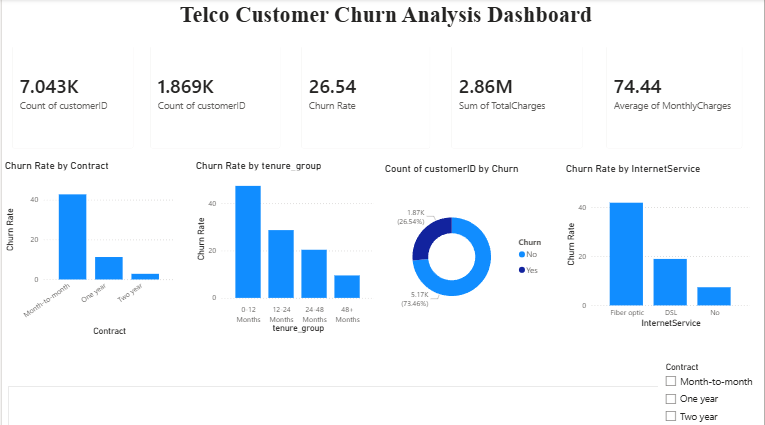

What the dashboard file says about the page in this screenshot:
{"tool":"powerbi","page":{"name":"Churn Dashboard","canvas":[1280,720],"ordinal":0},"visuals":[{"type":"cardVisual","fields":{"Data":["CountNonNull(telco_churn_cleaned.customerID)"]},"box":[0,40.3,238.5,228.5],"z":0},{"type":"cardVisual","fields":{"Data":["CountNonNull(telco_churn_cleaned.customerID)"]},"box":[231.8,40.3,253.6,228.5],"z":1},{"type":"cardVisual","fields":{"Data":["telco_churn_cleaned.Churn Rate"]},"box":[485.5,40.3,252,228.5],"z":2},{"type":"cardVisual","fields":{"Data":["Sum(telco_churn_cleaned.TotalCharges)"]},"box":[737.4,40.3,255.3,228.5],"z":3},{"type":"cardVisual","fields":{"Data":["Avg(telco_churn_cleaned.MonthlyCharges)"]},"box":[997.8,40.3,263.7,228.5],"z":4},{"type":"clusteredColumnChart","fields":{"Category":["telco_churn_cleaned.Contract"],"Y":["telco_churn_cleaned.Churn Rate"]},"box":[0,268.8,295.6,302.4],"z":5},{"type":"clusteredColumnChart","fields":{"Category":["telco_churn_cleaned.tenure_group"],"Y":["telco_churn_cleaned.Churn Rate"]},"box":[320.8,268.8,309.1,297.3],"z":6},{"type":"donutChart","fields":{"Category":["telco_churn_cleaned.Churn"],"Y":["CountNonNull(telco_churn_cleaned.customerID)"]},"box":[638.3,273.8,292.3,297.3],"z":7},{"type":"clusteredColumnChart","fields":{"Category":["telco_churn_cleaned.InternetService"],"Y":["telco_churn_cleaned.Churn Rate"]},"box":[942.4,273.8,319.2,283.9],"z":8},{"type":"textbox","box":[10.1,650.1,1239.7,70.6],"z":9},{"type":"slicer","fields":{"Values":["telco_churn_cleaned.Contract"]},"box":[1101.9,604.7,169.7,115.9],"z":10},{"type":"textbox","box":[10.1,0,1269.9,80.6],"z":11}]}

Visuals, with their boxes in screenshot pixels (x1, y1, x2, y2), scaled from the page's 1280x720 canvas onto the 765x425 screenshot:
cardVisual - CountNonNull(telco_churn_cleaned.customerID): <region>0, 24, 143, 159</region>
cardVisual - CountNonNull(telco_churn_cleaned.customerID): <region>139, 24, 290, 159</region>
cardVisual - telco_churn_cleaned.Churn Rate: <region>290, 24, 441, 159</region>
cardVisual - Sum(telco_churn_cleaned.TotalCharges): <region>441, 24, 593, 159</region>
cardVisual - Avg(telco_churn_cleaned.MonthlyCharges): <region>596, 24, 754, 159</region>
clusteredColumnChart - telco_churn_cleaned.Contract x telco_churn_cleaned.Churn Rate: <region>0, 159, 177, 337</region>
clusteredColumnChart - telco_churn_cleaned.tenure_group x telco_churn_cleaned.Churn Rate: <region>192, 159, 376, 334</region>
donutChart - telco_churn_cleaned.Churn x CountNonNull(telco_churn_cleaned.customerID): <region>381, 162, 556, 337</region>
clusteredColumnChart - telco_churn_cleaned.InternetService x telco_churn_cleaned.Churn Rate: <region>563, 162, 754, 329</region>
textbox: <region>6, 384, 747, 424</region>
slicer - telco_churn_cleaned.Contract: <region>659, 357, 760, 424</region>
textbox: <region>6, 0, 764, 48</region>
